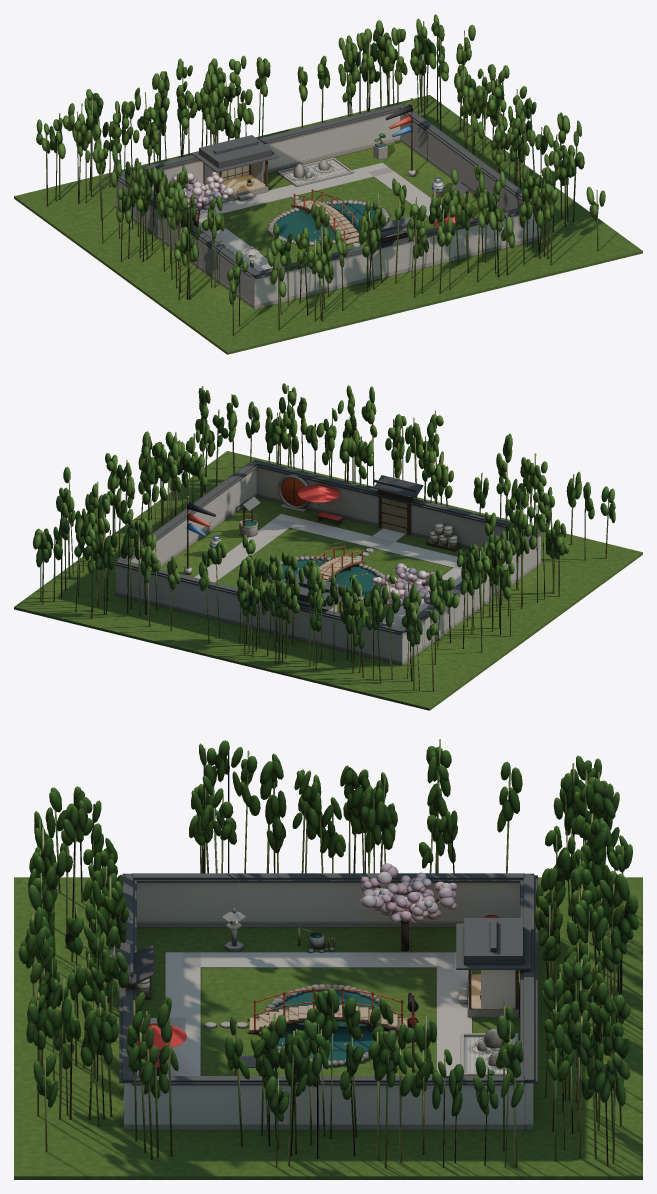
The model's file is palace.glb.
3 views of the same model, one above another, from view 1: azimuth 30°, elevation 25°; view 2: azimuth 150°, elevation 25°; view 3: azimuth 270°, elevation 25° (orthographic). The views are drawn at different scales.
Visible parts, largest first — view 1: atlas1_decor, atlas0_solid, atlas2_solid, atlas3_solid; view 2: atlas1_decor, atlas0_solid, atlas2_solid, atlas3_solid; view 3: atlas1_decor, atlas0_solid, atlas2_solid, atlas3_solid.
Boxes of the visible parts, bbox=[...] form: atlas1_decor: bbox=[36, 14, 605, 335]; atlas0_solid: bbox=[14, 95, 642, 354]; atlas2_solid: bbox=[115, 103, 540, 309]; atlas3_solid: bbox=[165, 98, 475, 271]; atlas1_decor: bbox=[33, 383, 615, 691]; atlas0_solid: bbox=[14, 451, 642, 710]; atlas2_solid: bbox=[114, 459, 541, 665]; atlas3_solid: bbox=[164, 474, 462, 627]; atlas1_decor: bbox=[18, 739, 638, 1167]; atlas0_solid: bbox=[14, 877, 642, 1179]; atlas2_solid: bbox=[119, 873, 537, 1129]; atlas3_solid: bbox=[109, 863, 530, 1075].
Bounding box in the file's own units: 36 × 9.37 × 32.
4 materials, 4 textured.
